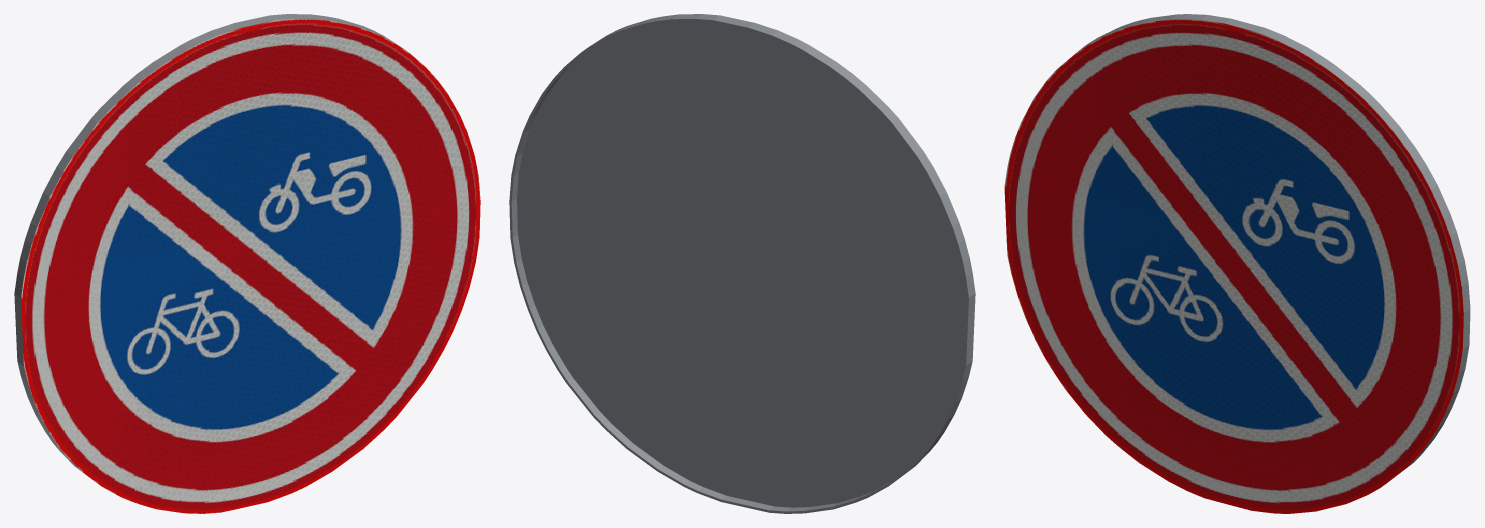
3 views of the same model, side by side, from view 1: azimuth 30°, elevation 25°; view 2: azimuth 150°, elevation 25°; view 3: azimuth 330°, elevation 25° (orthographic).
Visible parts, largest first — view 1: cat_834d70a38216ae69; view 2: cat_834d70a38216ae69; view 3: cat_834d70a38216ae69.
Part boxes in pixels (x1,y1,x2,y2): cat_834d70a38216ae69: (14, 14, 480, 513); cat_834d70a38216ae69: (509, 14, 975, 513); cat_834d70a38216ae69: (1004, 14, 1470, 513).
Size of the model in its own units: 0.6 by 0.015 by 0.6.
2 materials, 1 textured.
